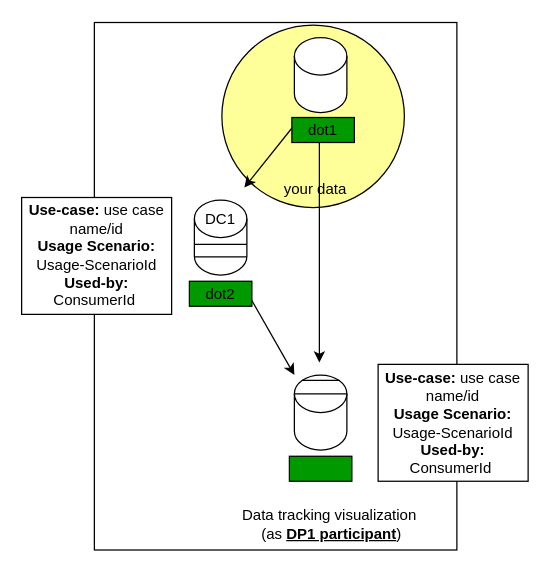
Image size: 551x571. Some labels were removed from this diagram. Here are the shapes that lost their labels. From the top down, the centre of each, then its label:
At (x=320, y=74): "DP1".
At (x=320, y=412): "DC2".
At (x=320, y=468): "dot3".
